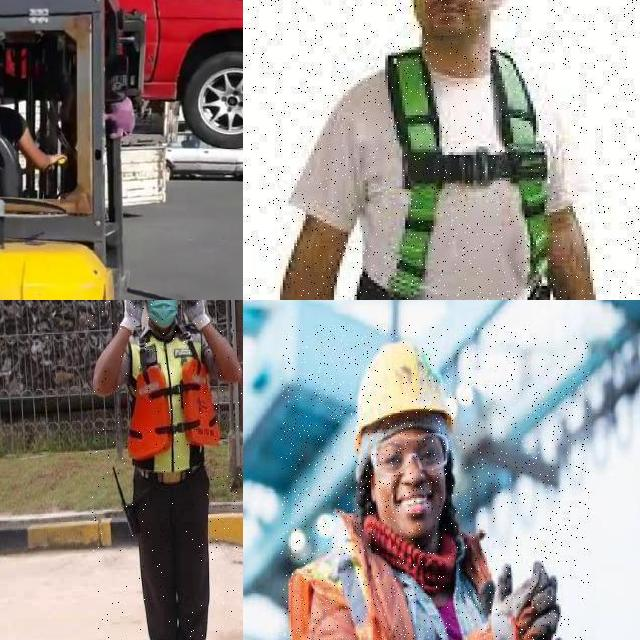GLASS: (368, 430, 451, 474)
GLOVE: (482, 560, 569, 640), (181, 300, 210, 330), (121, 300, 147, 331)
HELMET: (355, 341, 456, 445)
VEST: (288, 536, 534, 640), (124, 329, 221, 475)
